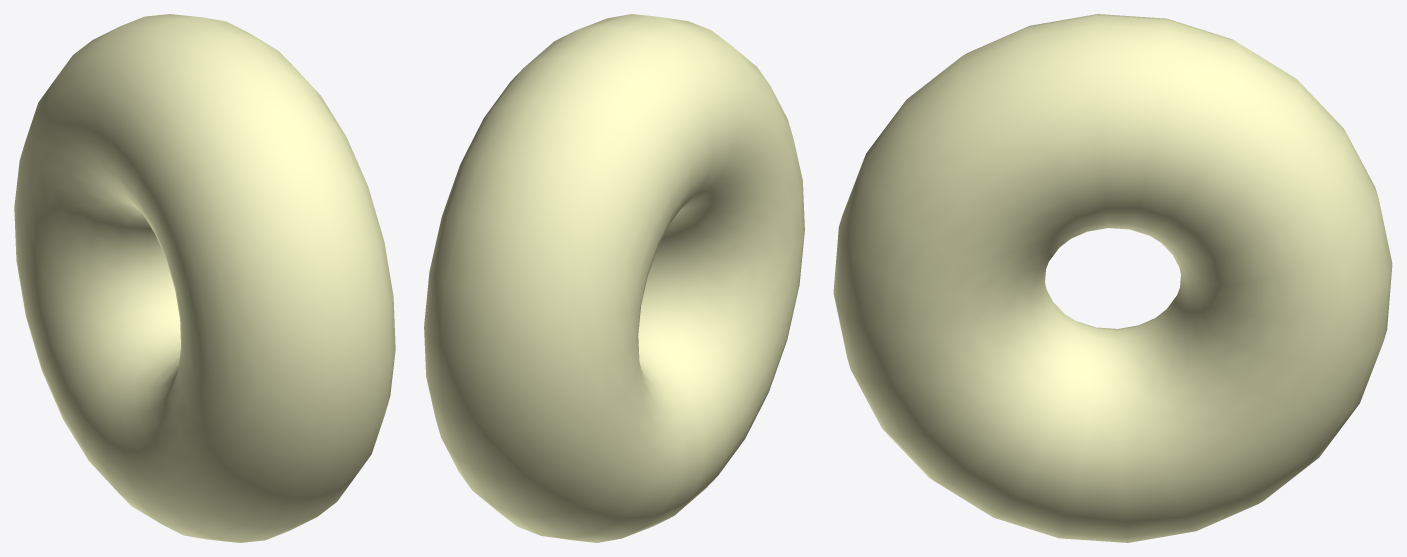
Rendered from tape1_3.dae.
3 views of the same model, side by side, from view 1: azimuth 30°, elevation 25°; view 2: azimuth 150°, elevation 25°; view 3: azimuth 270°, elevation 25° (orthographic). The views are drawn at different scales.
Parts seen in each view (by area): view 1: tape1_019; view 2: tape1_019; view 3: tape1_019.
Part boxes in pixels (x1,y1,x2,y2): tape1_019: [14, 14, 395, 542]; tape1_019: [424, 14, 804, 542]; tape1_019: [833, 14, 1392, 542].
Size of the model in its own units: 0.0739 by 0.1816 by 0.1816.
